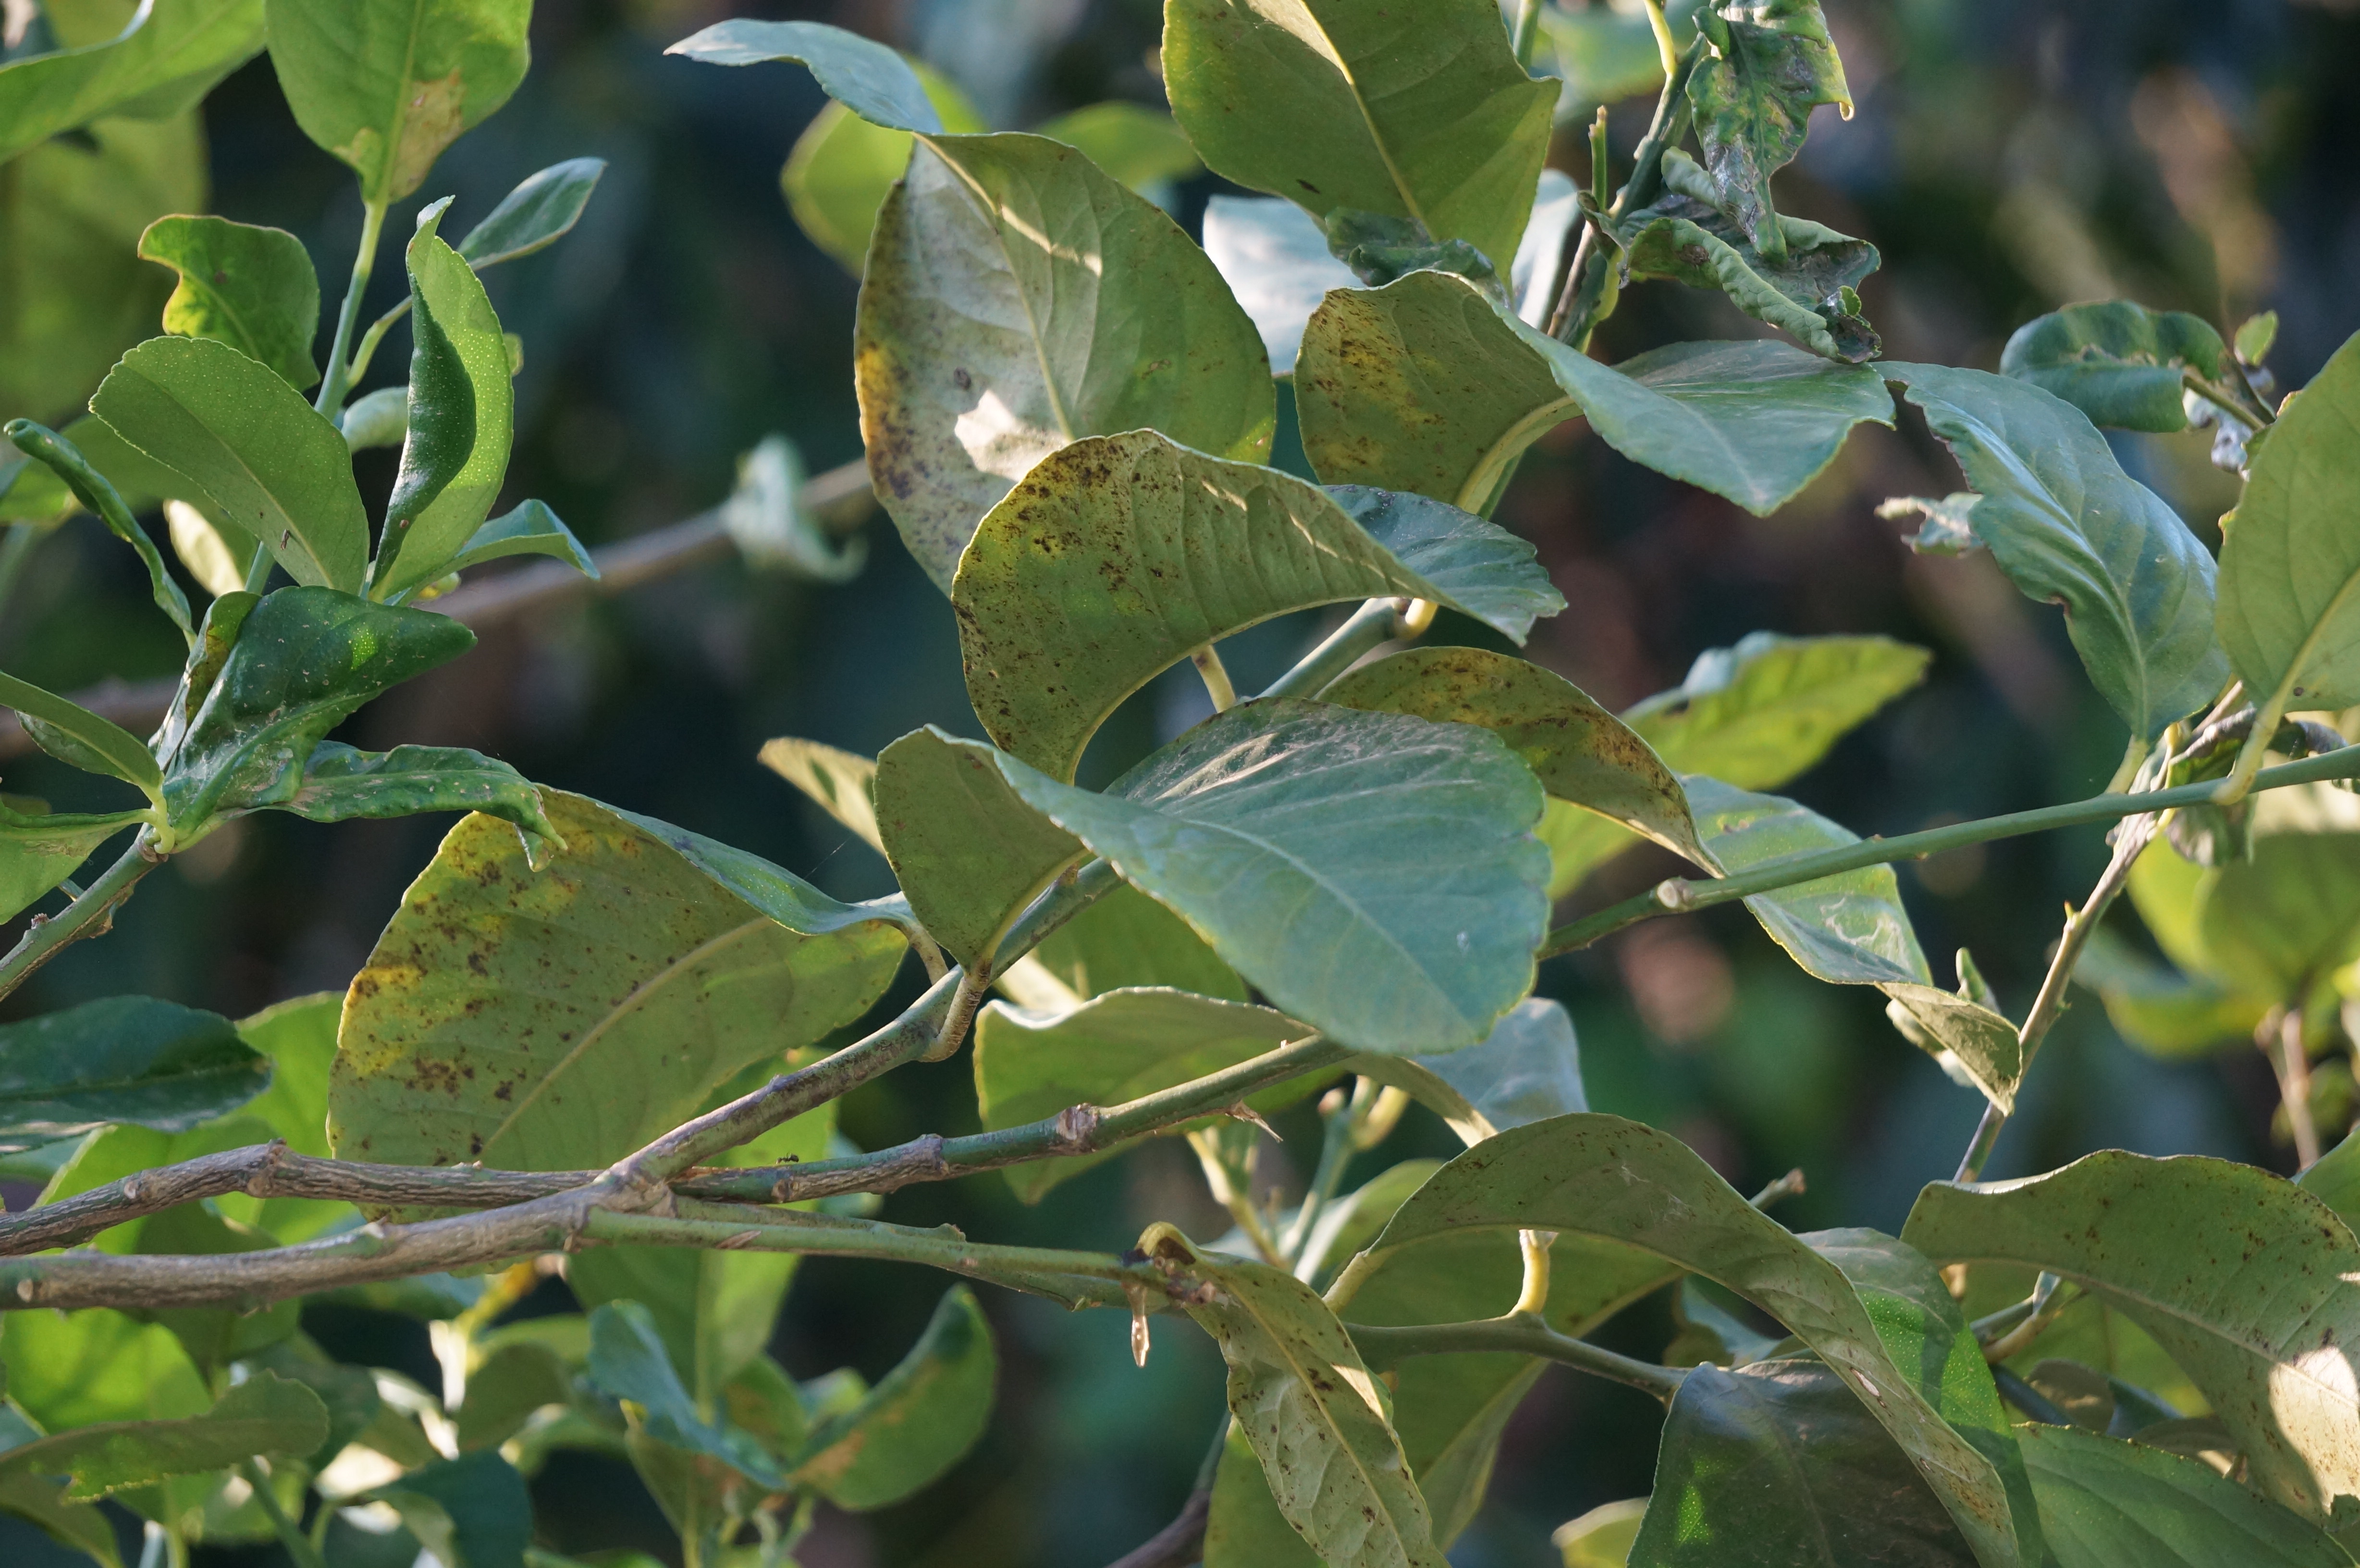damage: (1608, 0, 1895, 376), (140, 714, 579, 875)
